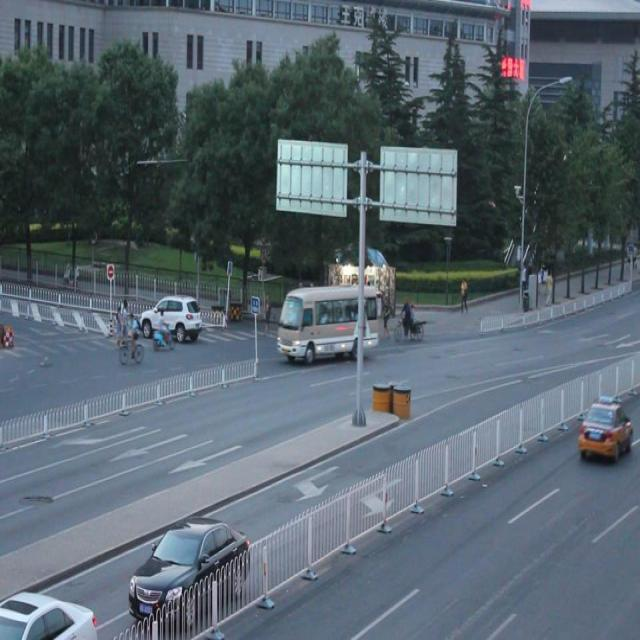car: (130, 516, 250, 630), (0, 589, 99, 640), (576, 398, 630, 458), (139, 294, 201, 345)
truck: (277, 286, 381, 354)
